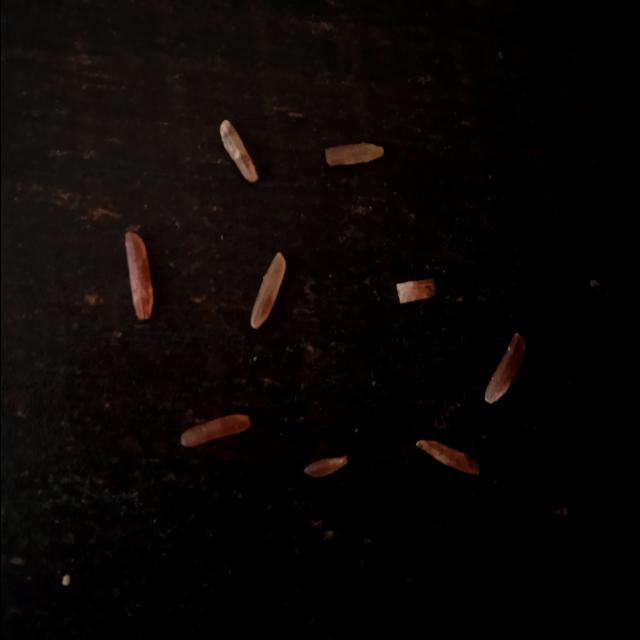Broken: (483, 334, 525, 404), (249, 252, 285, 329), (124, 232, 152, 320), (219, 120, 257, 182), (414, 439, 478, 475), (180, 414, 250, 446), (324, 142, 383, 166), (396, 278, 434, 304), (303, 456, 347, 478)
